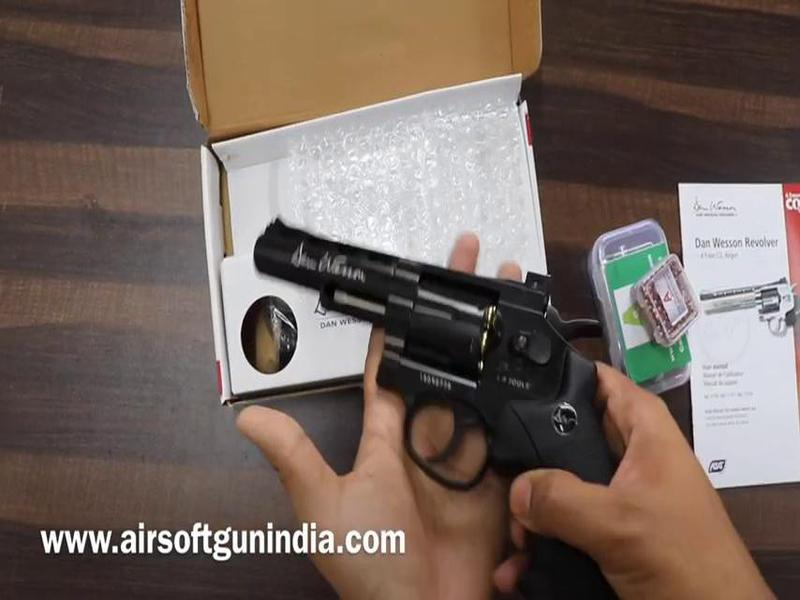Revolver: (236, 208, 658, 600)
